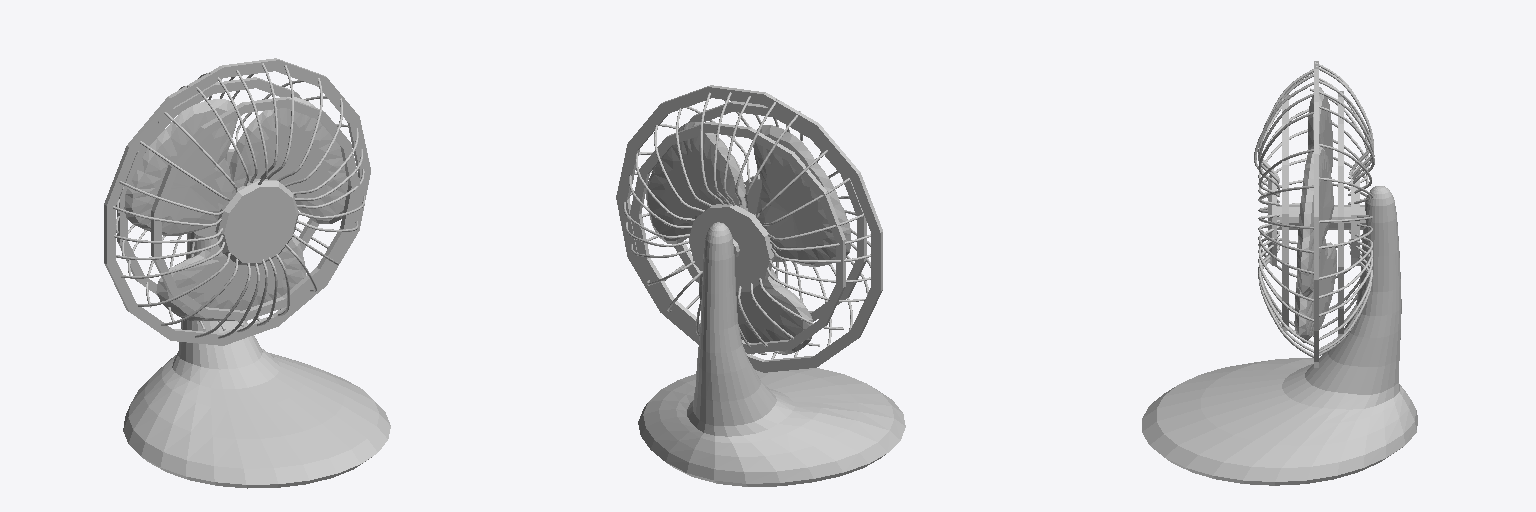
File: DeskFan.obj
3 views of the same model, side by side, from view 1: azimuth 30°, elevation 25°; view 2: azimuth 150°, elevation 25°; view 3: azimuth 270°, elevation 25° (orthographic).
Visible parts, largest first — view 1: DeskFan; view 2: DeskFan; view 3: DeskFan.
Boxes of the visible parts, box(x1,y1,x2,y2) form: DeskFan: box(104, 58, 390, 488); DeskFan: box(616, 85, 905, 486); DeskFan: box(1142, 61, 1417, 485).
Size of the model in its own units: 15.15 by 19.67 by 13.7.